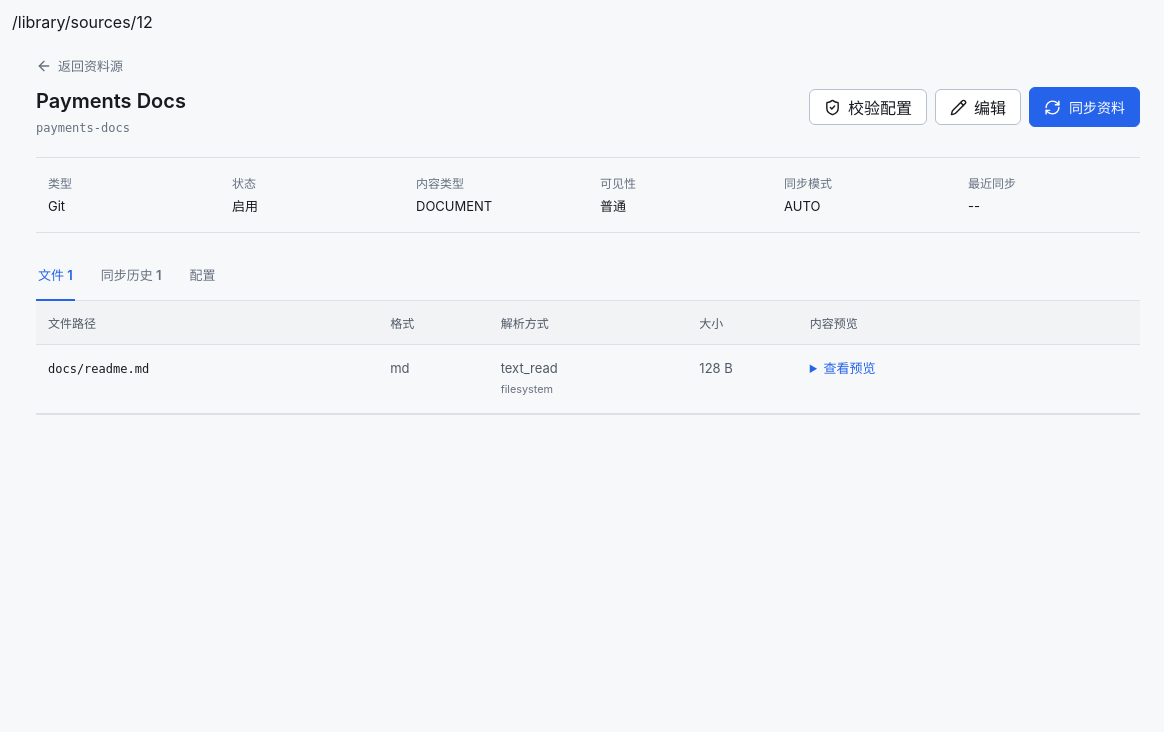
Test: source detail page › validates and submits a materialized source sync before exposing the real run
Check: the heading "Payments Docs" is shown, box x1=36 y1=87 x2=186 y2=115
Click the button "同步资料" at (1084, 107), box x1=1029 y1=87 x2=1140 y2=127
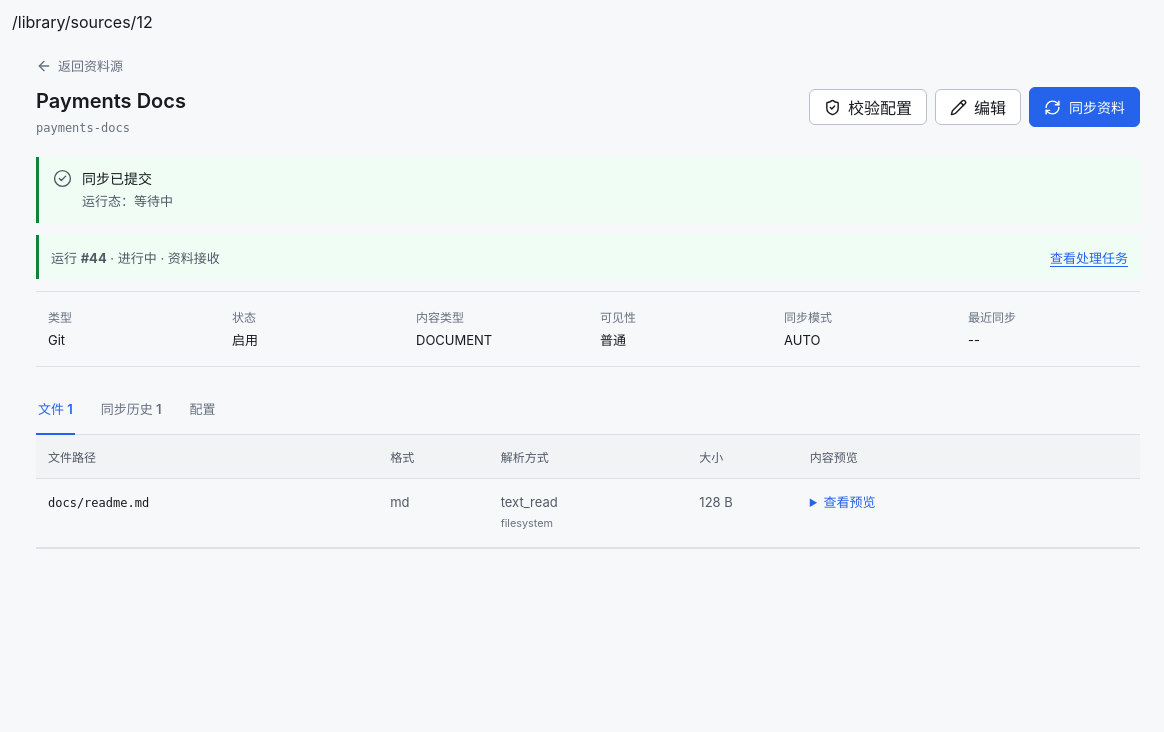
Check: the text "同步已提交" is shown, box x1=82 y1=170 x2=152 y2=187
Check: the text "#44" is shown, box x1=81 y1=250 x2=107 y2=266
